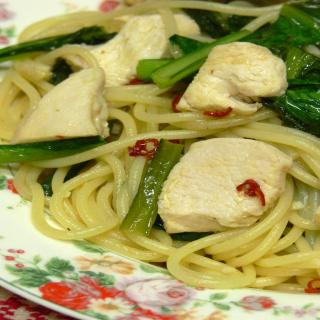Pasta: (0, 0, 320, 289)
